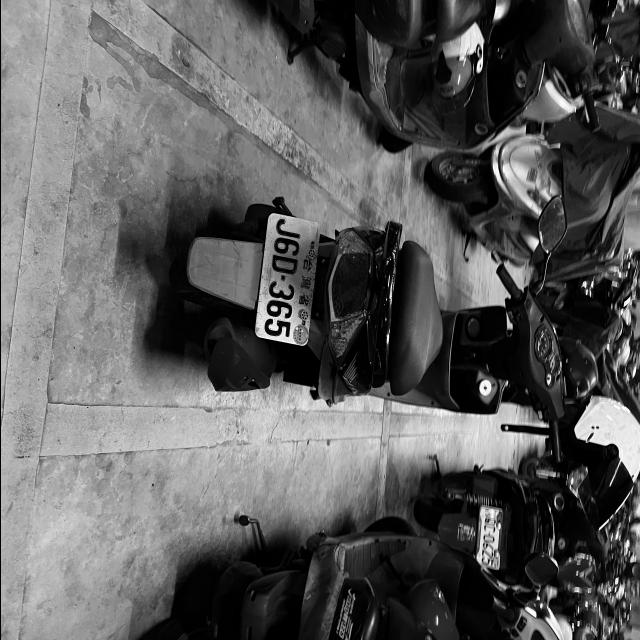-: (280, 275, 286, 281), (487, 532, 490, 537)
0: (480, 534, 494, 544)
2: (480, 549, 493, 559)
3: (267, 278, 295, 303)
5: (262, 317, 291, 340), (480, 557, 493, 567)
6: (272, 235, 301, 258), (265, 298, 293, 321), (481, 541, 494, 552)
C: (482, 524, 495, 534)
D: (269, 253, 299, 277)
J: (274, 216, 302, 241)
plate: (255, 213, 317, 346)
